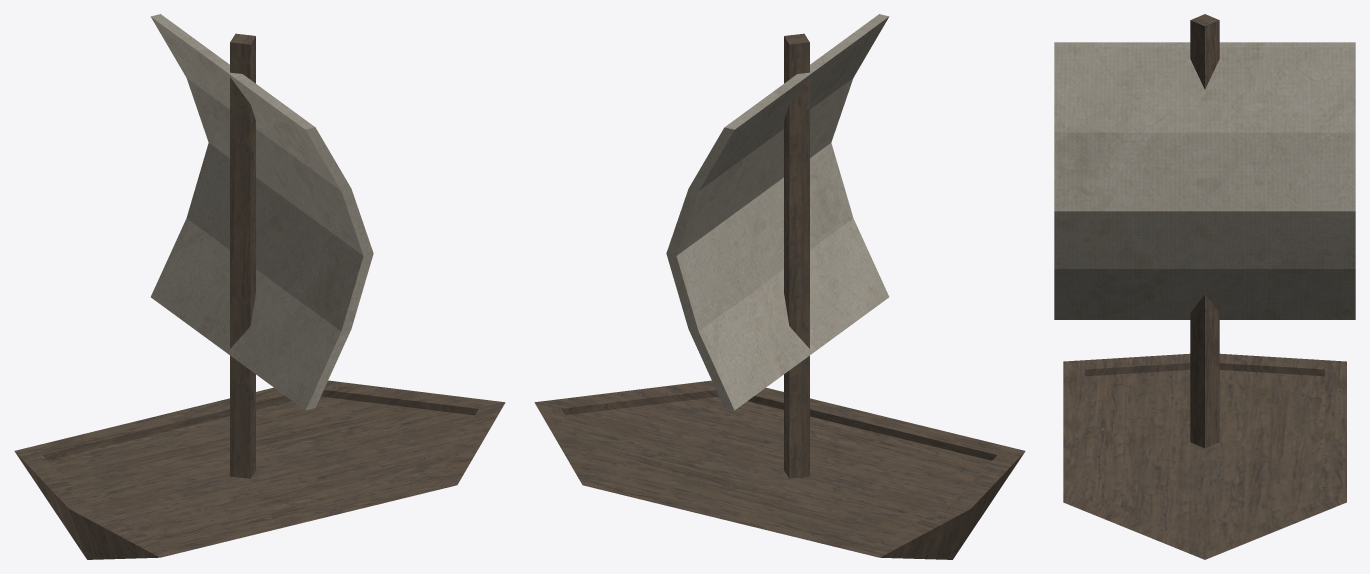
The model's file is Lil boat.fbx.
3 renders of one model, left to right at view 1: azimuth 30°, elevation 25°; view 2: azimuth 150°, elevation 25°; view 3: azimuth 270°, elevation 25°, orthographic. The views are drawn at different scales.
Parts seen in each view (by area): view 1: Cube, Plane, Plane.001; view 2: Cube, Plane, Plane.001; view 3: Plane, Cube, Plane.001.
Boxes of the visible parts, x1,y1,x2,y2 form: Cube: (14,380,505,559); Plane: (150,14,373,410); Plane.001: (230,33,255,478); Cube: (534,380,1025,559); Plane: (666,14,889,410); Plane.001: (784,33,809,478); Plane: (1054,42,1355,319); Cube: (1063,353,1346,559); Plane.001: (1190,14,1219,448).
Size of the model in its own units: 294 by 311 by 181.
Materials: 3 (3 with a texture image).
